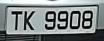0: (69, 9, 82, 32)
8: (82, 9, 94, 30)
9: (42, 9, 58, 33), (57, 9, 70, 32)
K: (21, 8, 38, 34)
T: (10, 7, 24, 35)
